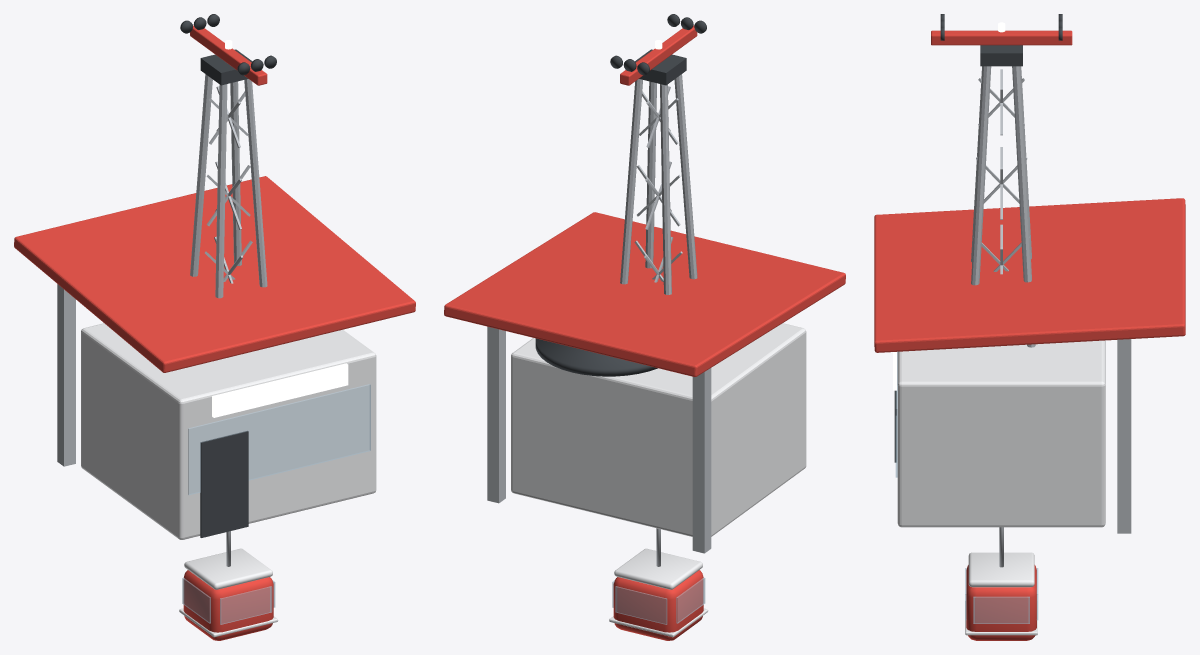
The model's file is ropeway.glb.
The picture shows the model from 3 angles, left to right: view 1: azimuth 30°, elevation 25°; view 2: azimuth 150°, elevation 25°; view 3: azimuth 270°, elevation 25°; orthographic projection. The views are drawn at different scales.
Visible parts, largest first — view 1: Canopy, StationBase, StationGlass, StationDoor, CabinBody, Pillar-1, StationSign, CabinRoof, Leg-1-1, Leg1-1, Leg-11, CabinGlassY-1 (+4 smaller); view 2: StationBase, Canopy, CabinBody, Pillar-1, Pillar1, Bullwheel, CabinRoof, Leg-11, Leg-1-1, Leg11, CabinGlassY1, Leg1-1 (+3 smaller); view 3: Canopy, StationBase, CabinBody, Pillar1, CabinRoof, Crossarm, Leg11, Leg1-1, CabinGlassX1, TowerCap.
Part boxes in pixels (x1,y1,x2,y2): Canopy: (14, 176, 415, 372); StationBase: (81, 323, 376, 539); StationGlass: (188, 384, 370, 495); StationDoor: (200, 431, 248, 537); CabinBody: (183, 570, 273, 640); Pillar-1: (57, 284, 75, 466); StationSign: (212, 363, 348, 417); CabinRoof: (184, 548, 272, 589); Leg-1-1: (215, 84, 227, 298); Leg1-1: (244, 79, 267, 287); Leg-11: (190, 74, 212, 276); CabinGlassY-1: (220, 586, 272, 624); StationBase: (511, 323, 806, 536); Canopy: (444, 212, 845, 376); CabinBody: (613, 570, 703, 640); Pillar-1: (692, 368, 711, 553); Pillar1: (487, 326, 505, 503); Bullwheel: (535, 338, 657, 376); CabinRoof: (614, 548, 702, 589); Leg-11: (660, 84, 671, 294); Leg-1-1: (674, 74, 697, 279); Leg11: (620, 79, 642, 284); CabinGlassY1: (615, 586, 667, 624); Leg1-1: (645, 81, 656, 268); Canopy: (874, 198, 1185, 352); StationBase: (897, 340, 1105, 527); CabinBody: (966, 565, 1036, 640); Pillar1: (1117, 339, 1131, 533); CabinRoof: (968, 552, 1034, 587); Crossarm: (931, 30, 1072, 45); Leg11: (1012, 66, 1035, 347); Leg1-1: (971, 66, 991, 285); CabinGlassX1: (973, 596, 1029, 623); TowerCap: (980, 45, 1022, 66).
Bounding box in the file's own units: 6.4 × 14.19 × 6.6.
